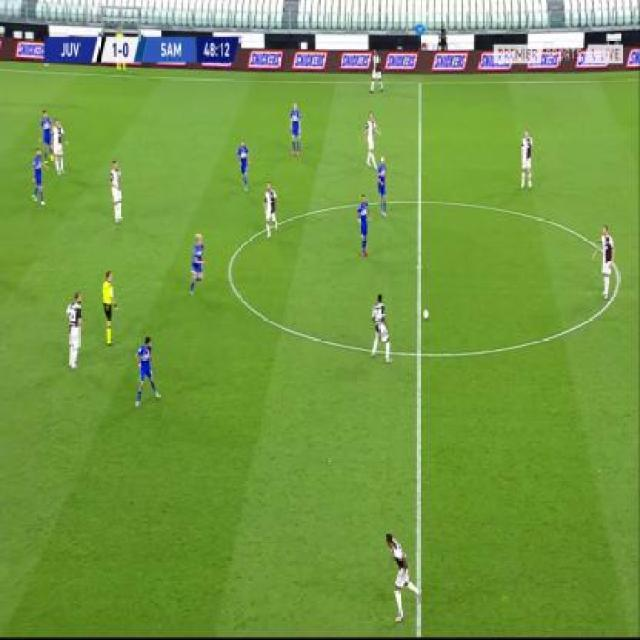ball: (422, 307, 430, 321)
player: (383, 529, 423, 623), (134, 334, 160, 410), (594, 223, 617, 300), (64, 289, 84, 372), (370, 291, 393, 362), (187, 227, 206, 300), (101, 268, 118, 345), (108, 157, 125, 226), (30, 146, 49, 206), (355, 192, 371, 258), (518, 126, 534, 189), (263, 181, 280, 240), (52, 117, 69, 176), (364, 110, 381, 169), (376, 154, 390, 217), (235, 138, 251, 192), (39, 106, 53, 165), (289, 98, 302, 157), (368, 47, 384, 93)
